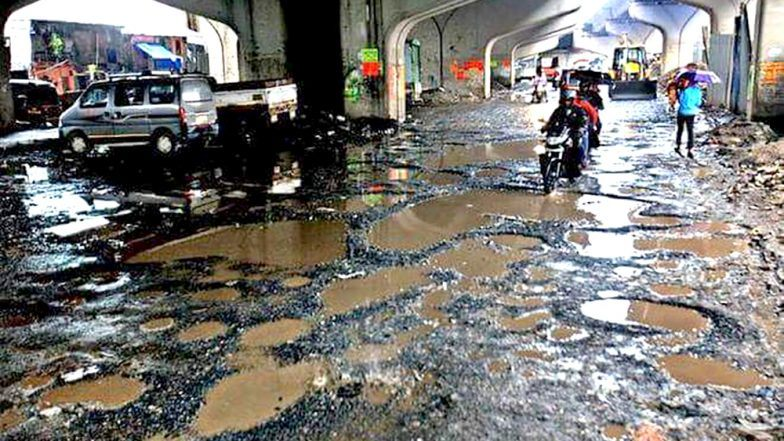pothole: (366, 157, 666, 235), (581, 277, 758, 350), (132, 211, 340, 273), (195, 345, 317, 434), (34, 352, 132, 424), (655, 344, 780, 390)
